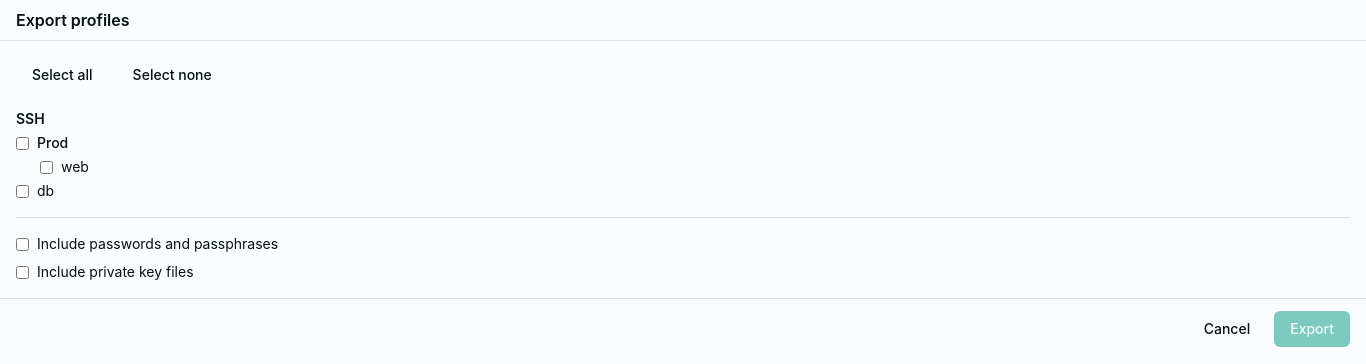
Scenario: a group whose parent is gone is listed at the top level
This screenshot has width=1366, height=364.
Click the checkbox labelled "Prod": (22, 143) [16,136,29,150]
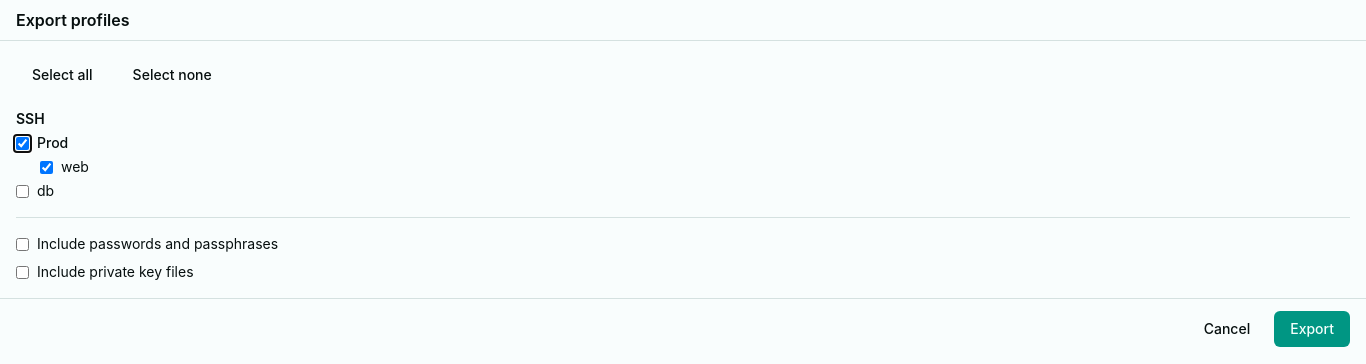
Result: the checkbox labelled "web" is checked at [40,160,53,174]
